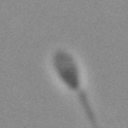normal: (76, 90, 105, 128)
